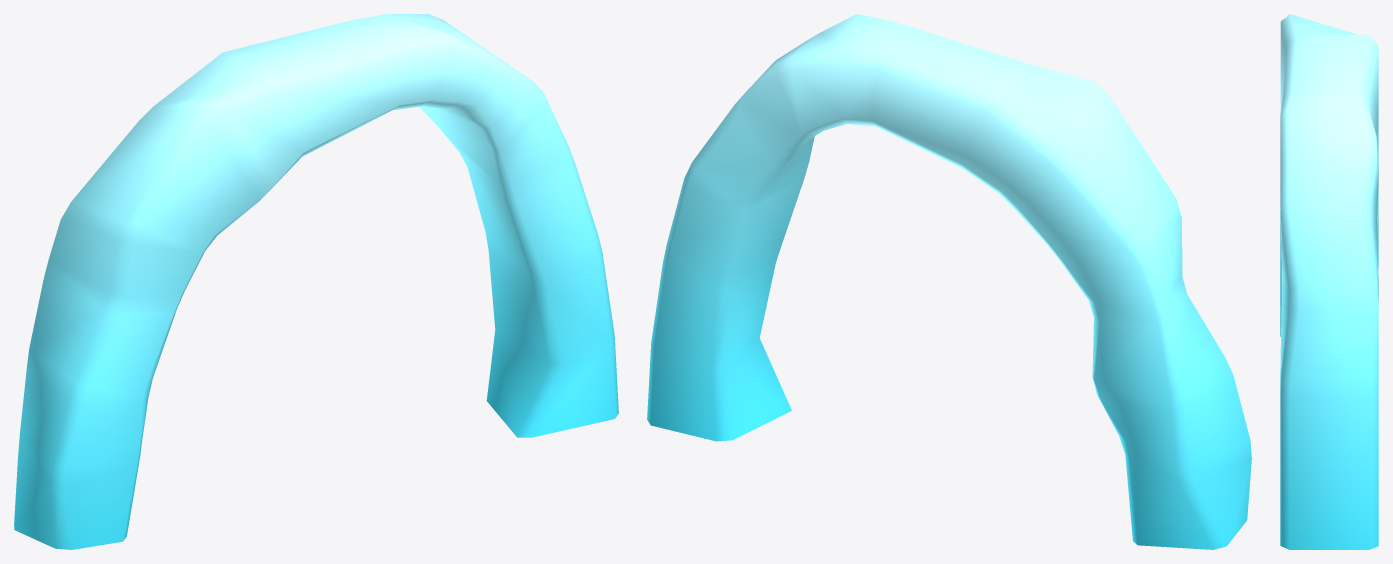
File: arch_001.glb
3 renders of one model, left to right at view 1: azimuth 30°, elevation 25°; view 2: azimuth 150°, elevation 25°; view 3: azimuth 270°, elevation 25°, orthographic. The views are drawn at different scales.
Parts seen in each view (by area): view 1: arch_001; view 2: arch_001; view 3: arch_001.
Boxes of the visible parts, box(x1,y1,x2,y2) form: arch_001: box(14, 14, 618, 549); arch_001: box(647, 14, 1251, 549); arch_001: box(1280, 14, 1378, 549).
Bounding box in the file's own units: 6.32 × 4.48 × 1.06.
1 material, 1 textured.
